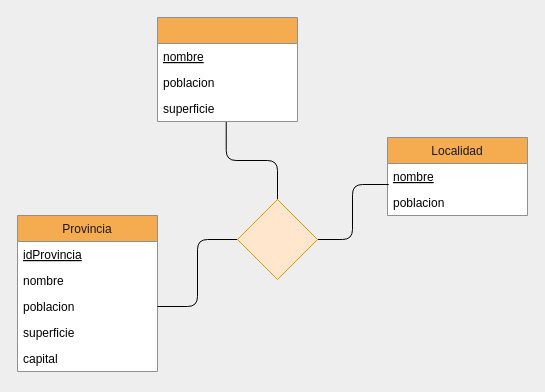
Image size: 545x392. Some labels were removed from this diagram. Here are the shapes that lost their labels. From the top down, the box of each, then its label:
(156, 16, 298, 122): Comunidad Autonoma
(236, 198, 318, 280): pertenece
